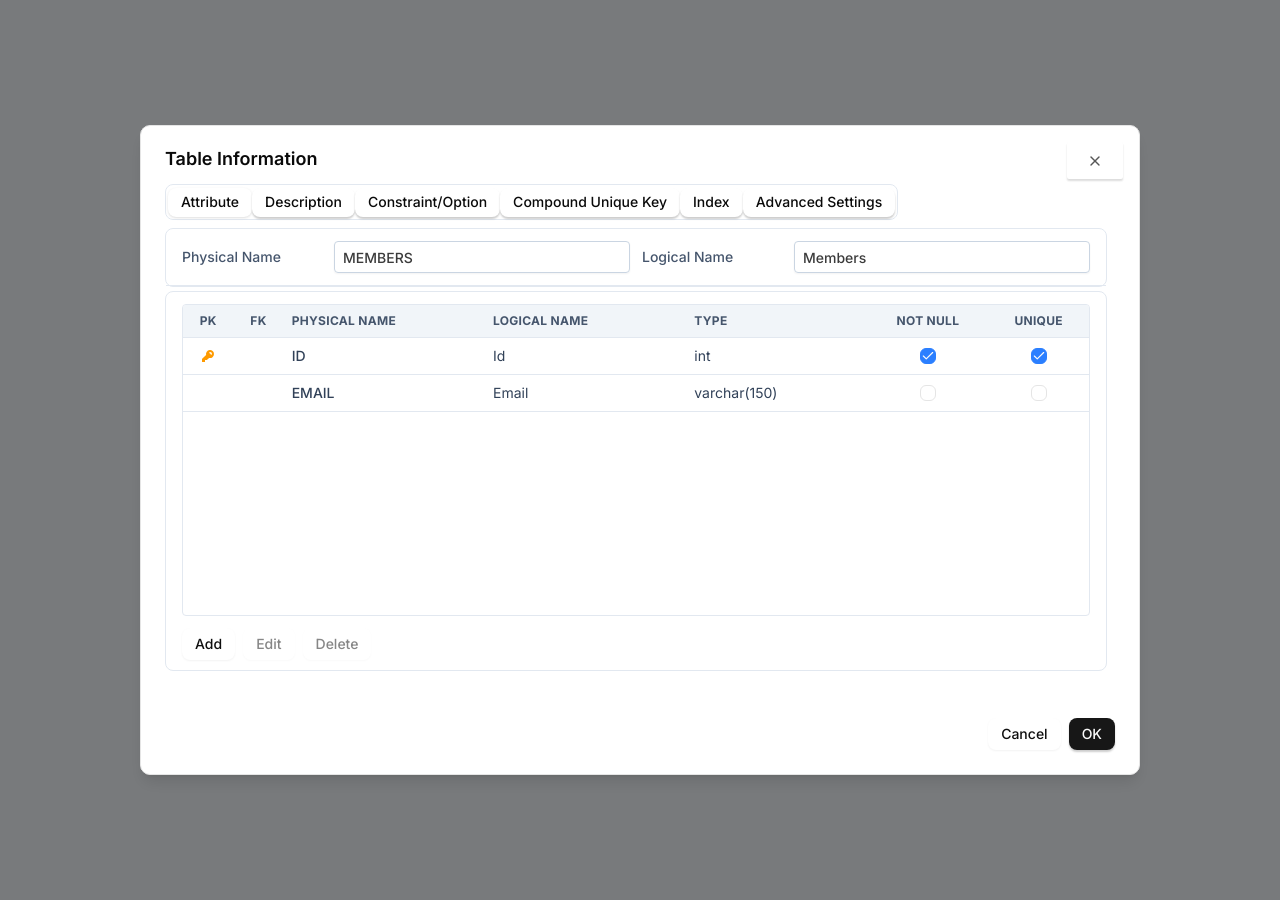
it: when editing is allowed › opens the column detail view on double-click
Step 1. Double-click the row "EMAIL Email varchar(150)" → (313, 392), box [183,374,1089,412]
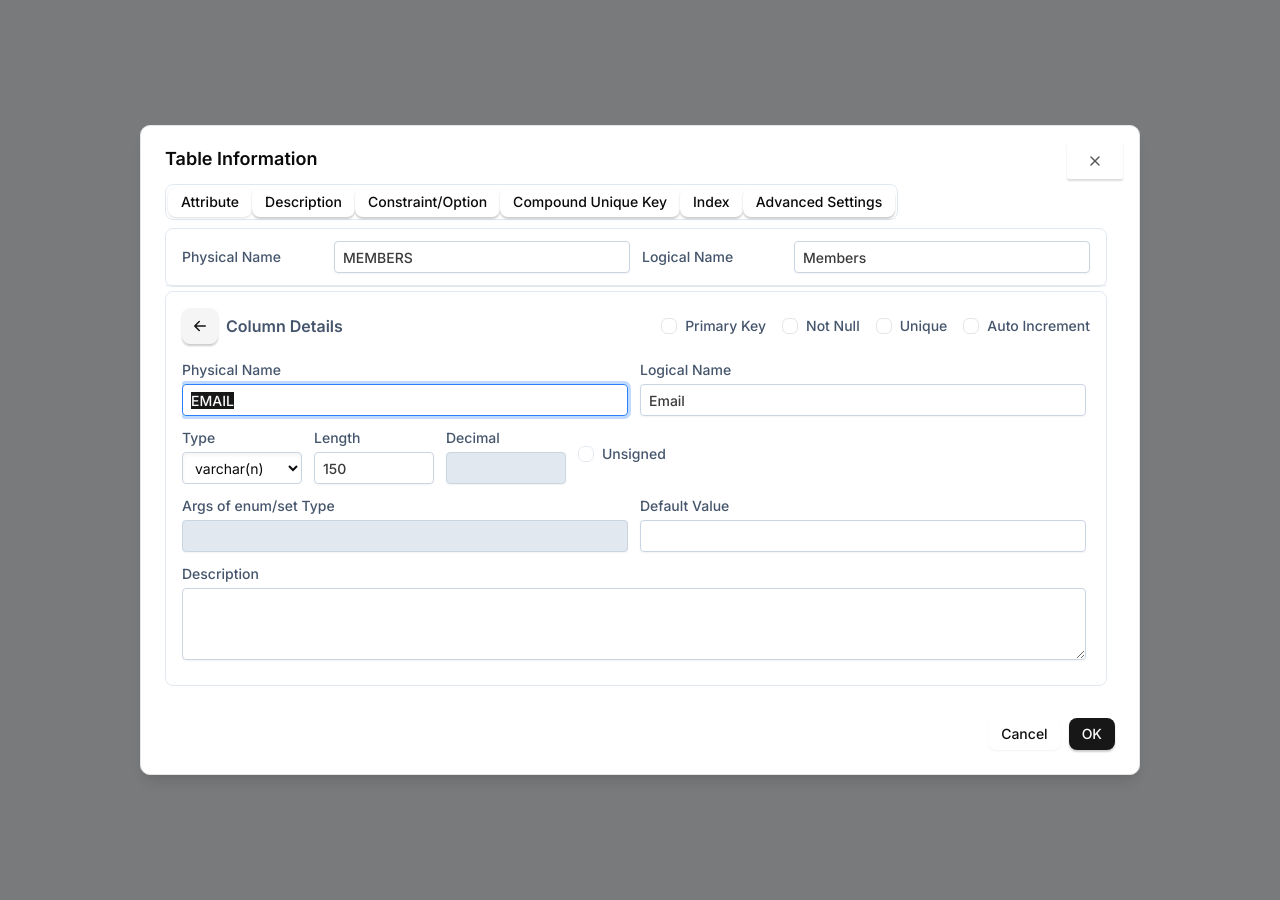
Check: the field labelled "Physical Name" below "Column Details" holds "EMAIL", box [182,384,628,416]
